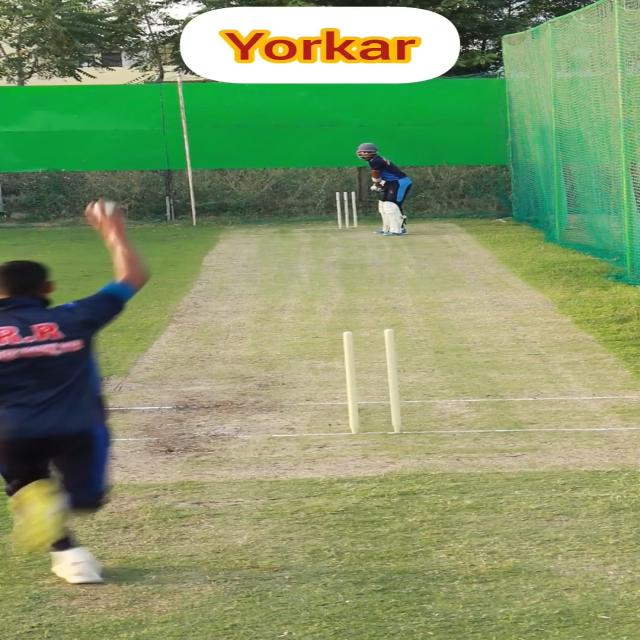stump: (337, 328, 405, 434), (332, 191, 358, 229)
